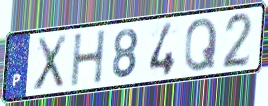2: (221, 11, 256, 70)
4: (147, 20, 178, 78)
8: (112, 27, 141, 81)
H: (70, 28, 108, 89)
Q: (183, 16, 219, 74)
X: (32, 32, 70, 94)
